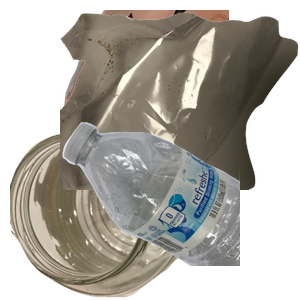glass: (10, 126, 216, 300)
metal: (60, 10, 300, 190)
plastic: (60, 120, 300, 300)
trash: (60, 10, 300, 190)
